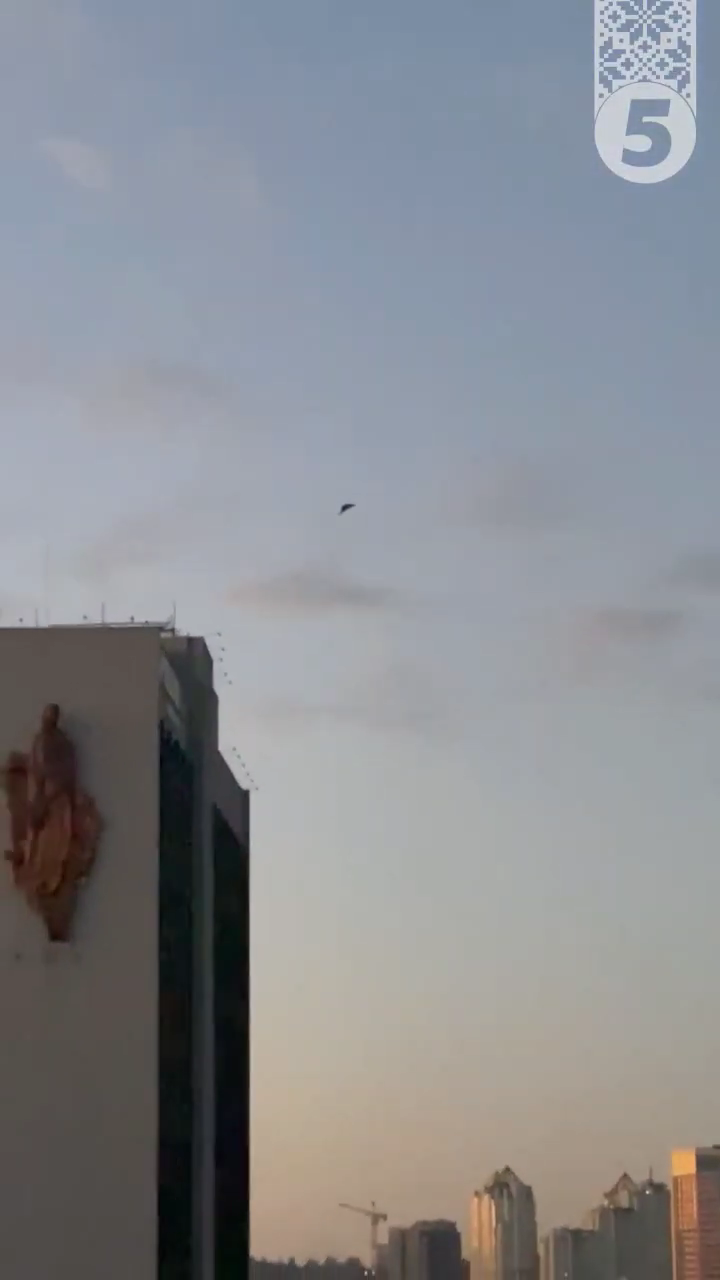shahed: (336, 501, 357, 518)
